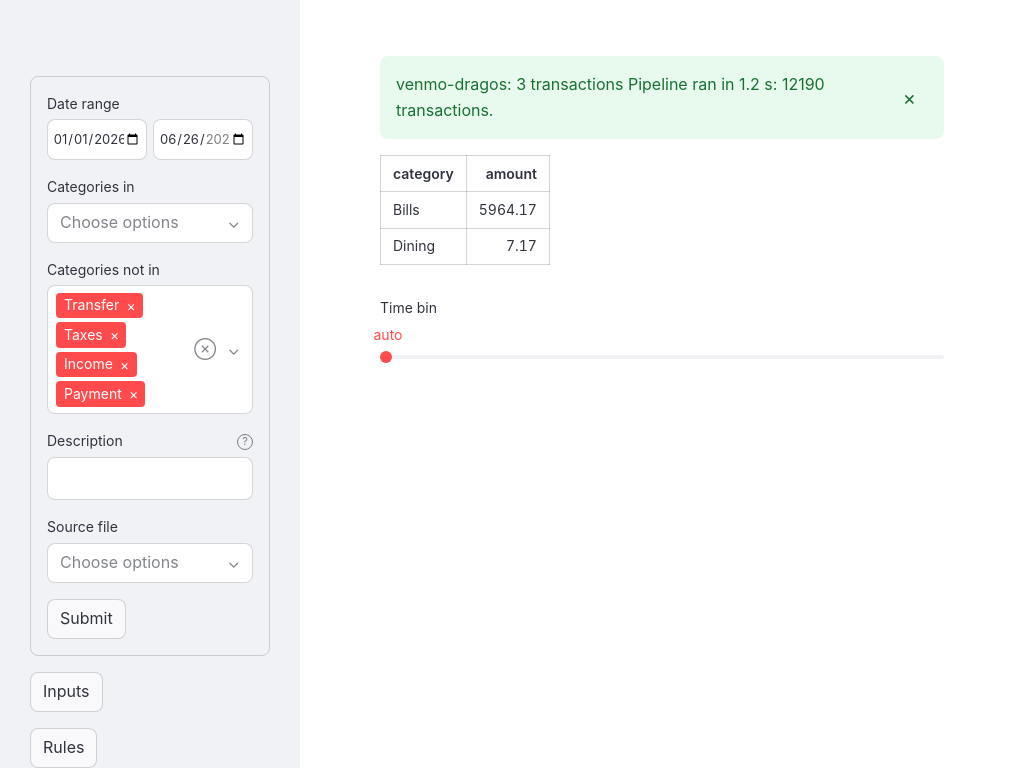
it: arriving from the hand-login page's Done (/?refresh=<account>) › the result banner can be dismissed
The image size is (1024, 768).
Check: the text "venmo-dragos: 3 transactions" is shown, box [396, 74, 825, 120]
Step 1. Click the button named "Dismiss message" → (909, 98), box [891, 78, 928, 118]
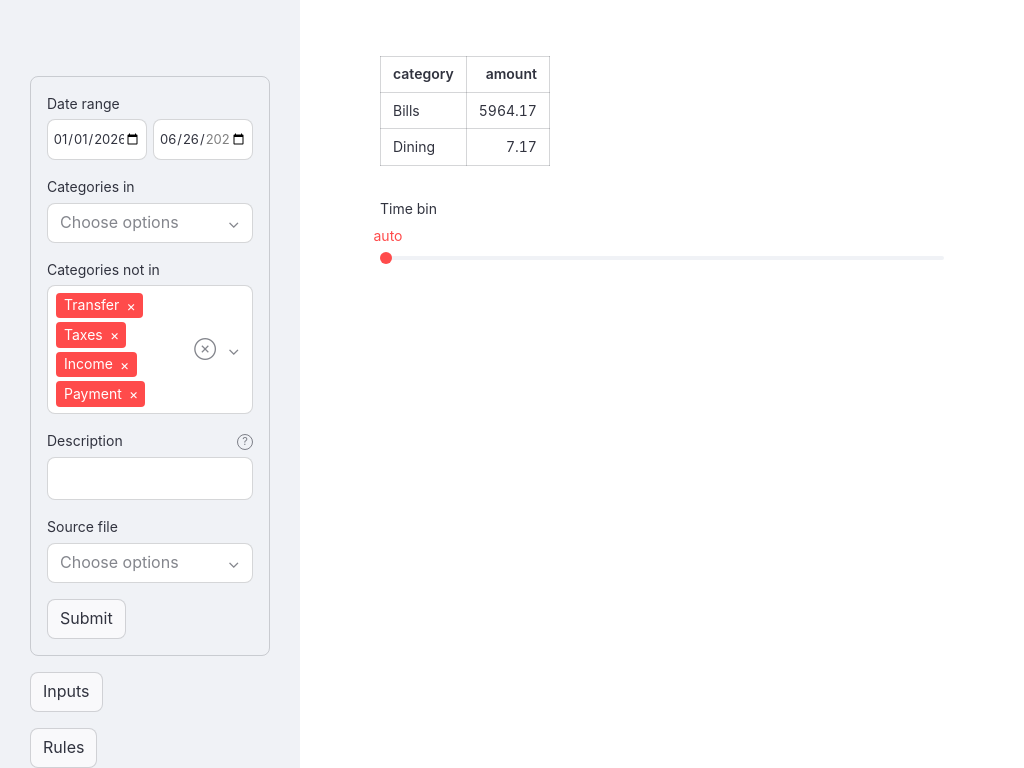
Check: the text "venmo-dragos: 3 transactions" is gone
